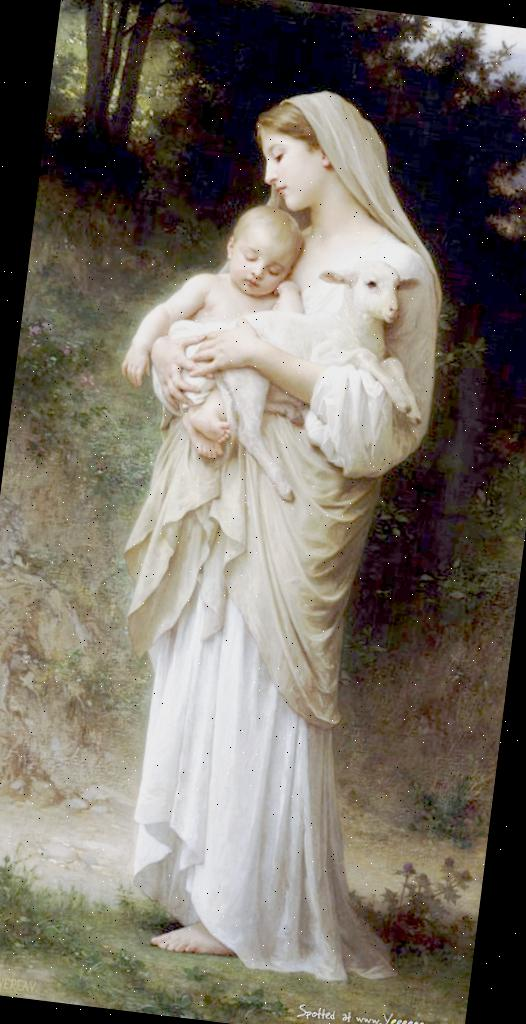Sheep: (202, 242, 442, 518)
